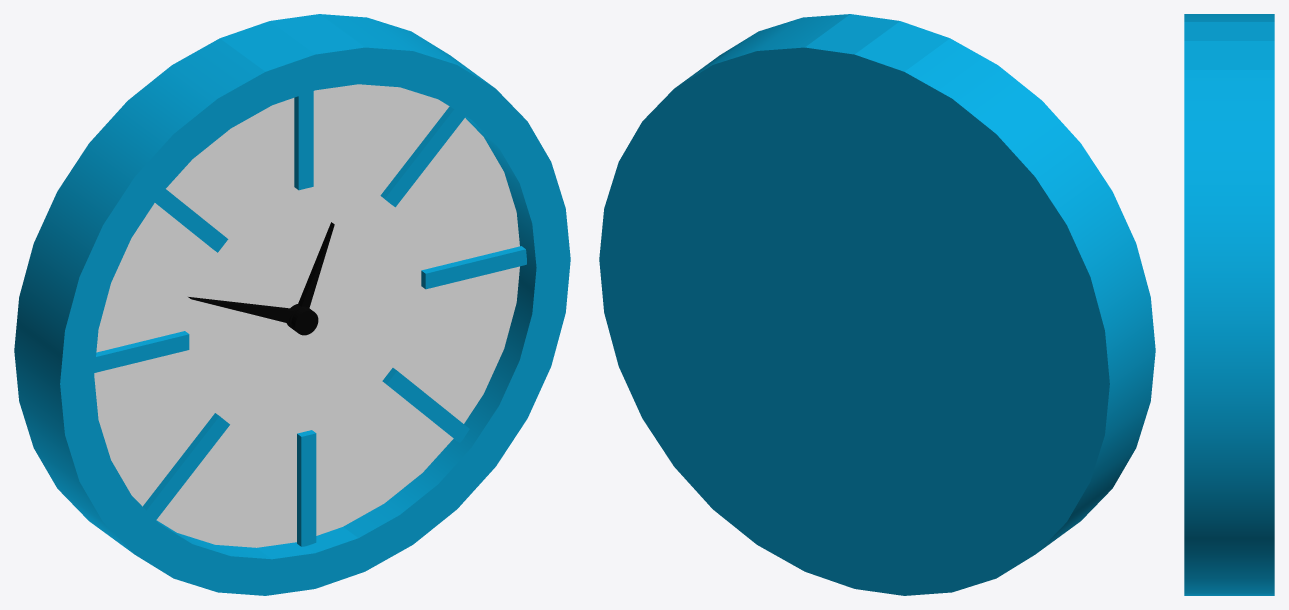
Rendered from Clock.fbx.
3 views of the same model, side by side, from view 1: azimuth 30°, elevation 25°; view 2: azimuth 150°, elevation 25°; view 3: azimuth 270°, elevation 25° (orthographic).
Visible parts, largest first — view 1: Plane.004; view 2: Plane.004; view 3: Plane.004.
Boxes of the visible parts, <box> form: Plane.004: <box>14,14,570,595</box>; Plane.004: <box>599,14,1155,595</box>; Plane.004: <box>1184,14,1274,595</box>.
Bounding box in the file's own units: 101 × 101 × 15.69.
